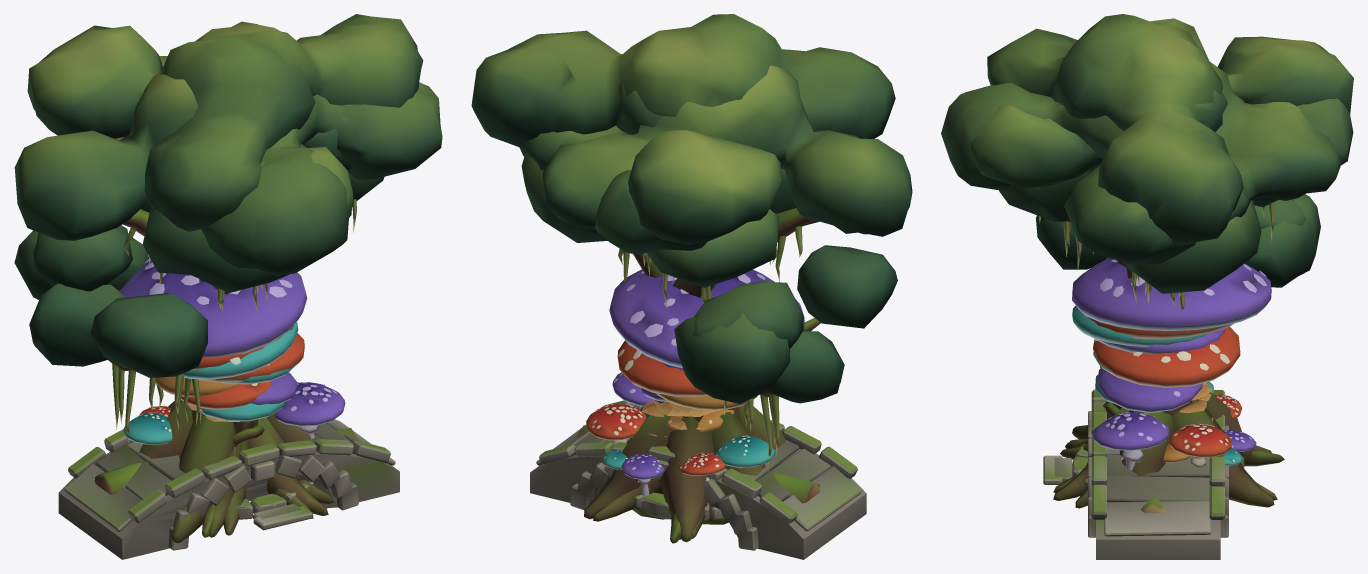
File: pilzwald.glb
3 renders of one model, left to right at view 1: azimuth 30°, elevation 25°; view 2: azimuth 150°, elevation 25°; view 3: azimuth 270°, elevation 25°, orthographic. The views are drawn at different scales.
Parts seen in each view (by area): view 1: uraltbaum2_krone, uraltbaum1_krone, uraltbaum3_krone, steinbruecke1_stein, hohlbaum1_krone, lilapilz1_hut, hohlbaum1_stamm, lilapilz3_hut, uraltbaum3_stamm, portalbecken1_stein, tuerkispilz1_hut, tuerkispilz3_hut (+10 smaller); view 2: uraltbaum2_krone, uraltbaum1_krone, steinbruecke1_stein, uraltbaum3_krone, hohlbaum1_krone, hohlbaum1_stamm, lilapilz1_hut, fliegenpilz3_hut, tuerkispilz3_hut, lilapilz3_hut, hohlbaum1_flechten, uraltbaum1_stamm (+5 smaller); view 3: uraltbaum2_krone, uraltbaum1_krone, uraltbaum3_krone, steinbruecke1_stein, lilapilz1_hut, hohlbaum1_krone, fliegenpilz3_hut, hohlbaum1_stamm, lilapilz3_hut, lilapilz2_hut, uraltbaum3_stamm, tuerkispilz1_hut (+3 smaller).
Boxes of the visible parts, x1,y1,x2,y2 form: uraltbaum2_krone: (27,14,423,291); uraltbaum1_krone: (14,56,353,377); uraltbaum3_krone: (14,82,442,299); steinbruecke1_stein: (58,419,399,559); hohlbaum1_krone: (29,137,384,366); lilapilz1_hut: (118,259,307,357); hohlbaum1_stamm: (108,285,316,543); lilapilz3_hut: (274,382,345,426); uraltbaum3_stamm: (209,418,328,537); portalbecken1_stein: (228,481,313,530); tuerkispilz1_hut: (183,322,298,379); tuerkispilz3_hut: (123,364,296,444); uraltbaum2_krone: (471,14,895,348); uraltbaum1_krone: (519,65,912,328); steinbruecke1_stein: (530,400,866,559); uraltbaum3_krone: (595,49,804,403); hohlbaum1_krone: (521,157,844,403); hohlbaum1_stamm: (584,253,785,542); lilapilz1_hut: (609,269,804,367); fliegenpilz3_hut: (586,340,726,475); tuerkispilz3_hut: (603,435,774,469); lilapilz3_hut: (612,362,683,479); hohlbaum1_flechten: (618,248,779,467); uraltbaum1_stamm: (626,208,820,539); uraltbaum2_krone: (987,14,1353,245); uraltbaum1_krone: (971,18,1342,269); uraltbaum3_krone: (941,83,1353,287); steinbruecke1_stein: (1088,389,1228,559); lilapilz1_hut: (1072,257,1271,330); hohlbaum1_krone: (999,164,1278,293); fliegenpilz3_hut: (1093,326,1241,457); hohlbaum1_stamm: (1072,260,1274,507); lilapilz3_hut: (1093,328,1256,451); lilapilz2_hut: (1098,369,1202,412); uraltbaum3_stamm: (1053,263,1284,500); tuerkispilz1_hut: (1072,305,1207,346).
Bounding box in the file's own units: 14.74 × 16.11 × 12.94.
